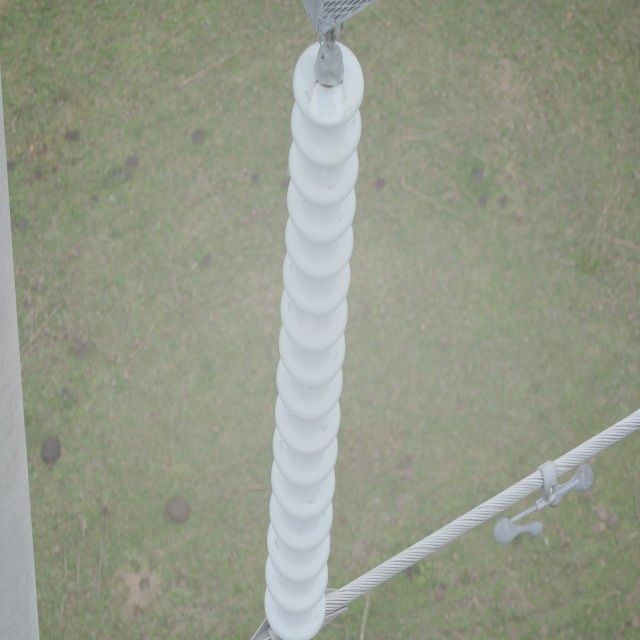insulator: (261, 41, 365, 639)
